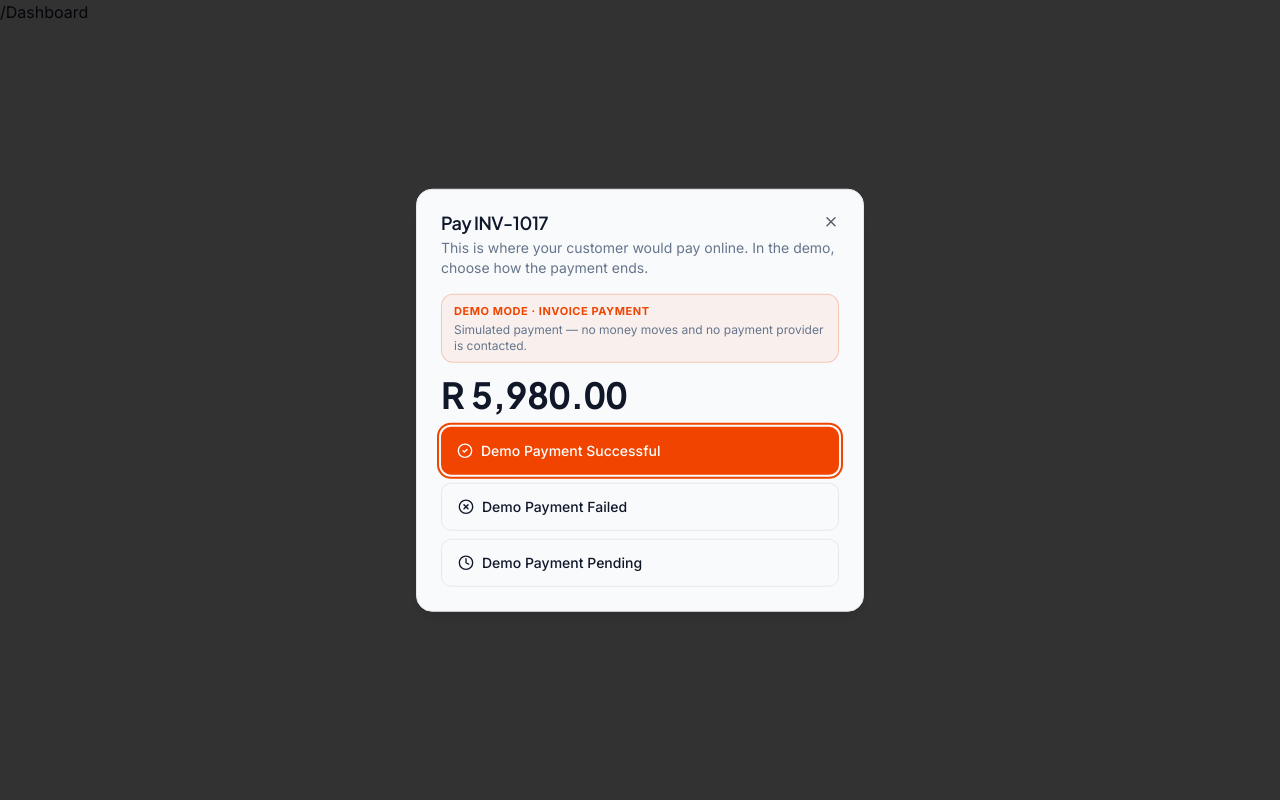
Test: simulated payments › invoice Pay now: a successful simulated payment is applied by the server and ends in a Done State
This screenshot has width=1280, height=800.
Click the button "Demo Payment Successful": (640, 450) [441,426,839,474]
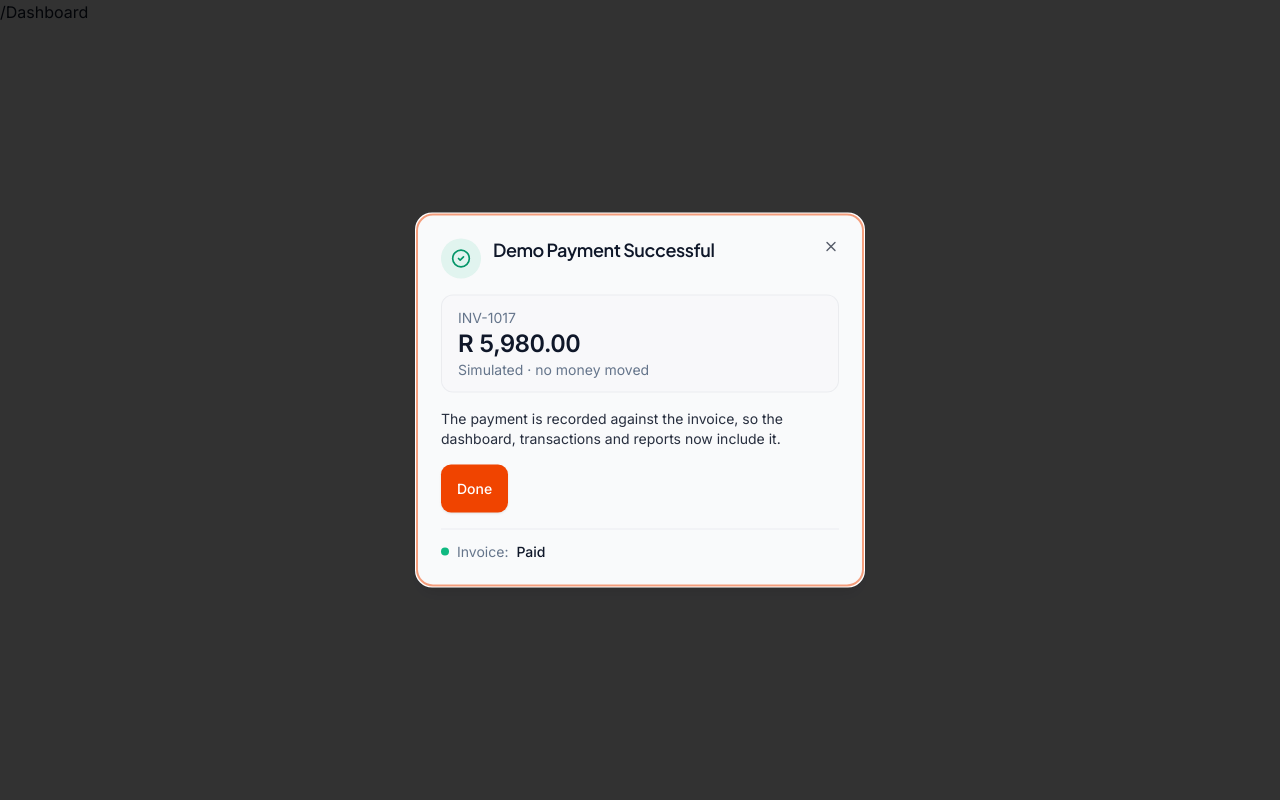
Expected: the text "Demo Payment Successful" is shown, [493,238,714,261]
Expected: the text "Simulated · no money moved" is shown, [458,360,649,378]
